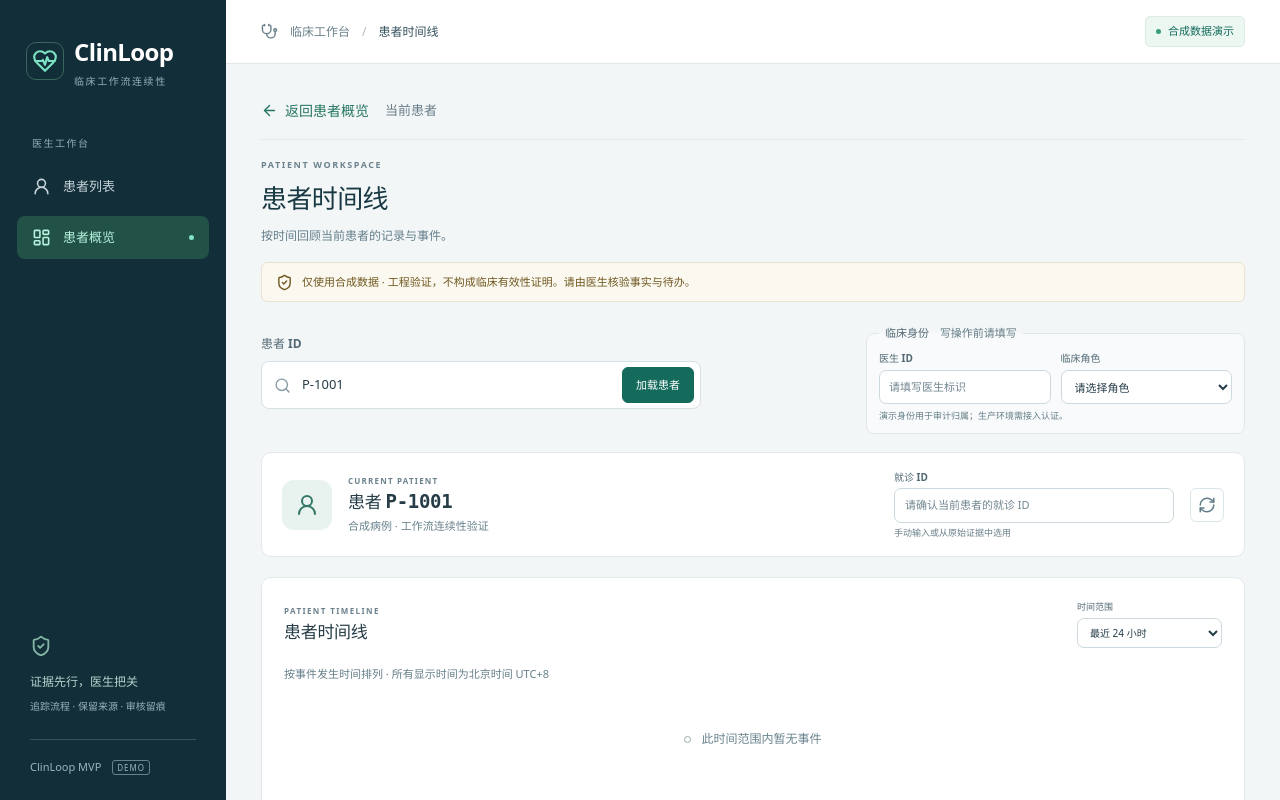
Test: doctor workspace › allows a 720-hour demo window and forwards it to the timeline endpoint
This screenshot has width=1280, height=800.
expect the text "此时间范围内暂无事件" is shown: met, box left=684, top=730, right=822, bottom=747
Step 1. Select "最近 720 小时（30 天）" in the dropdown labelled "时间范围" → (1150, 633), box left=1077, top=618, right=1222, bottom=648
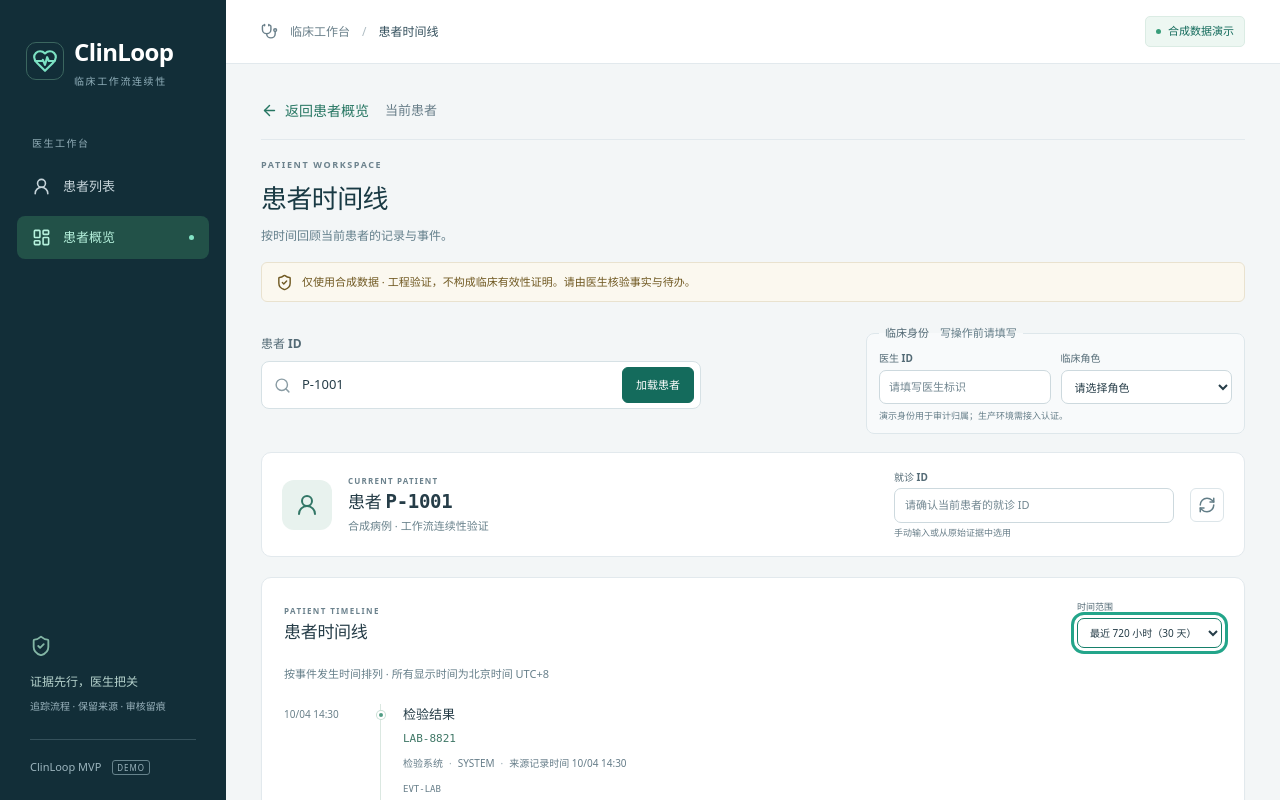
expect the text "检验系统" is shown: met, box left=403, top=756, right=443, bottom=770
